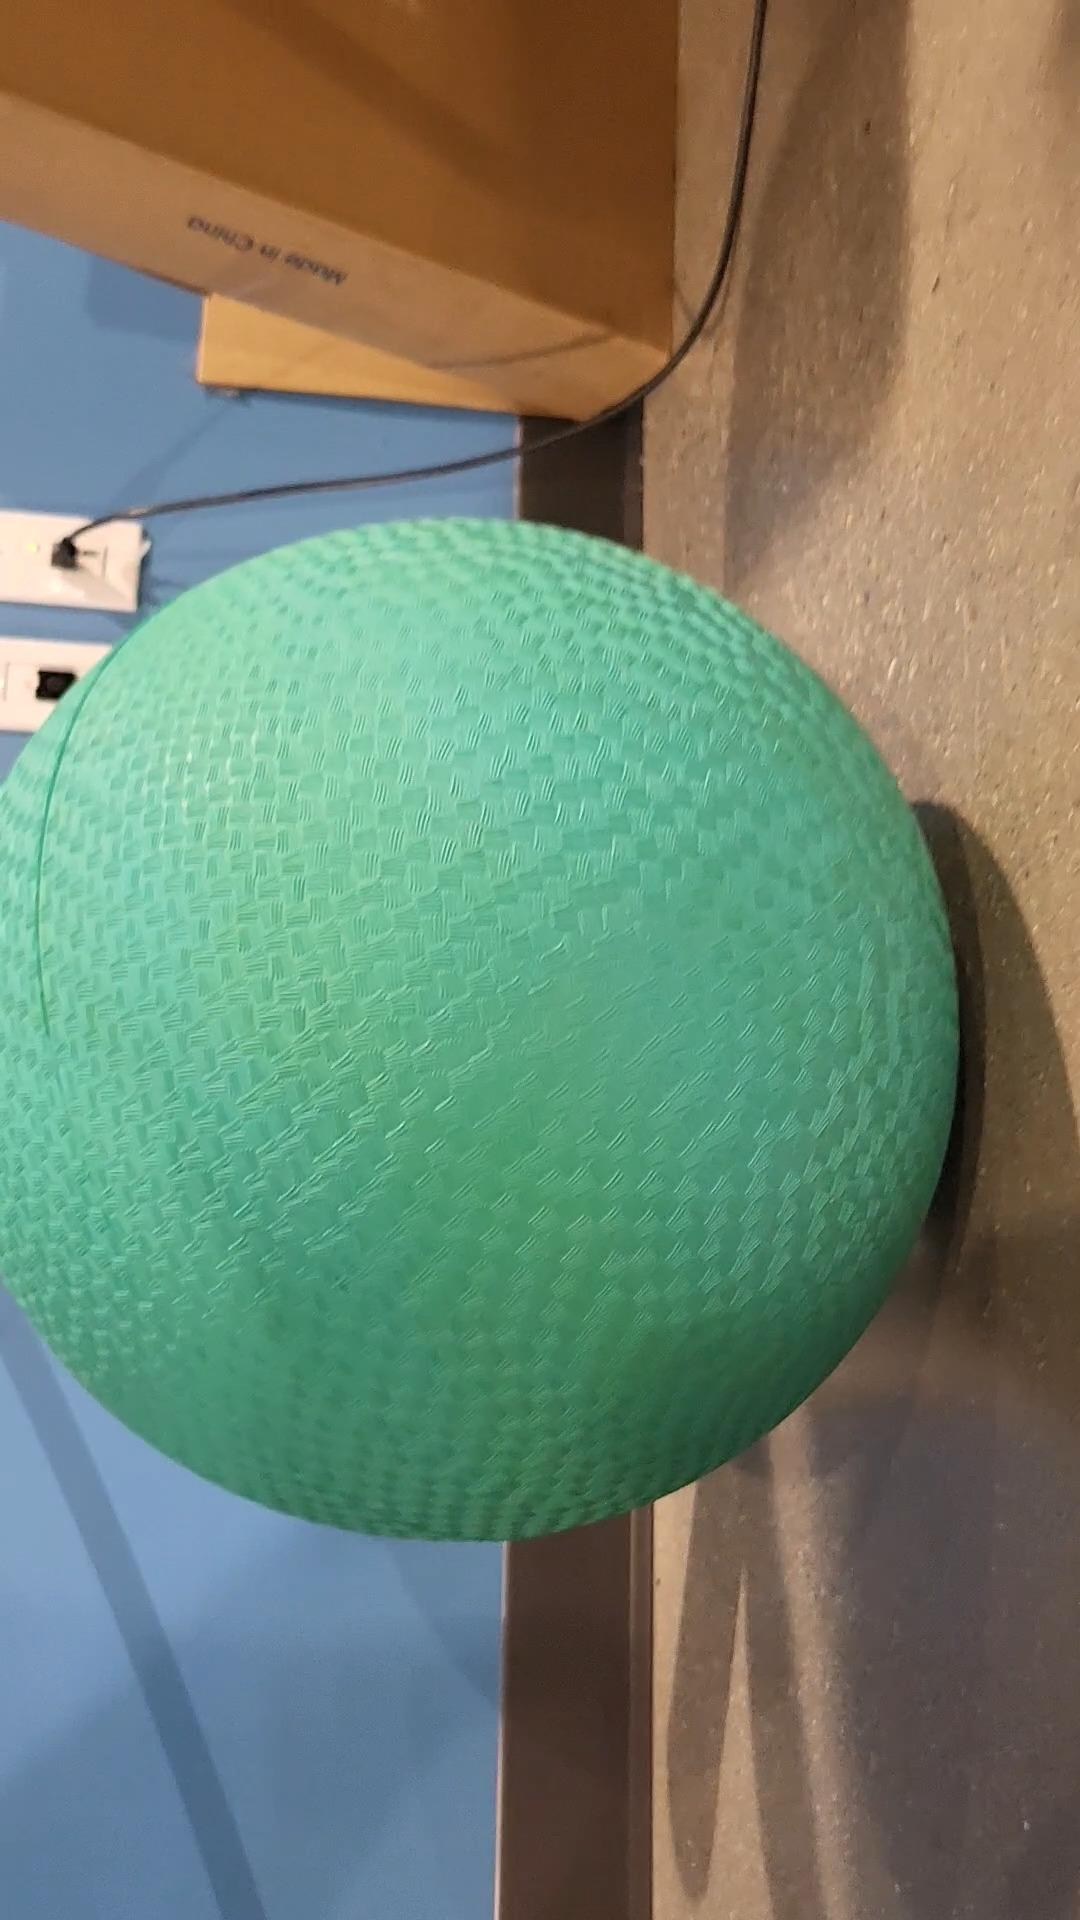algae: (0, 517, 949, 1538)
